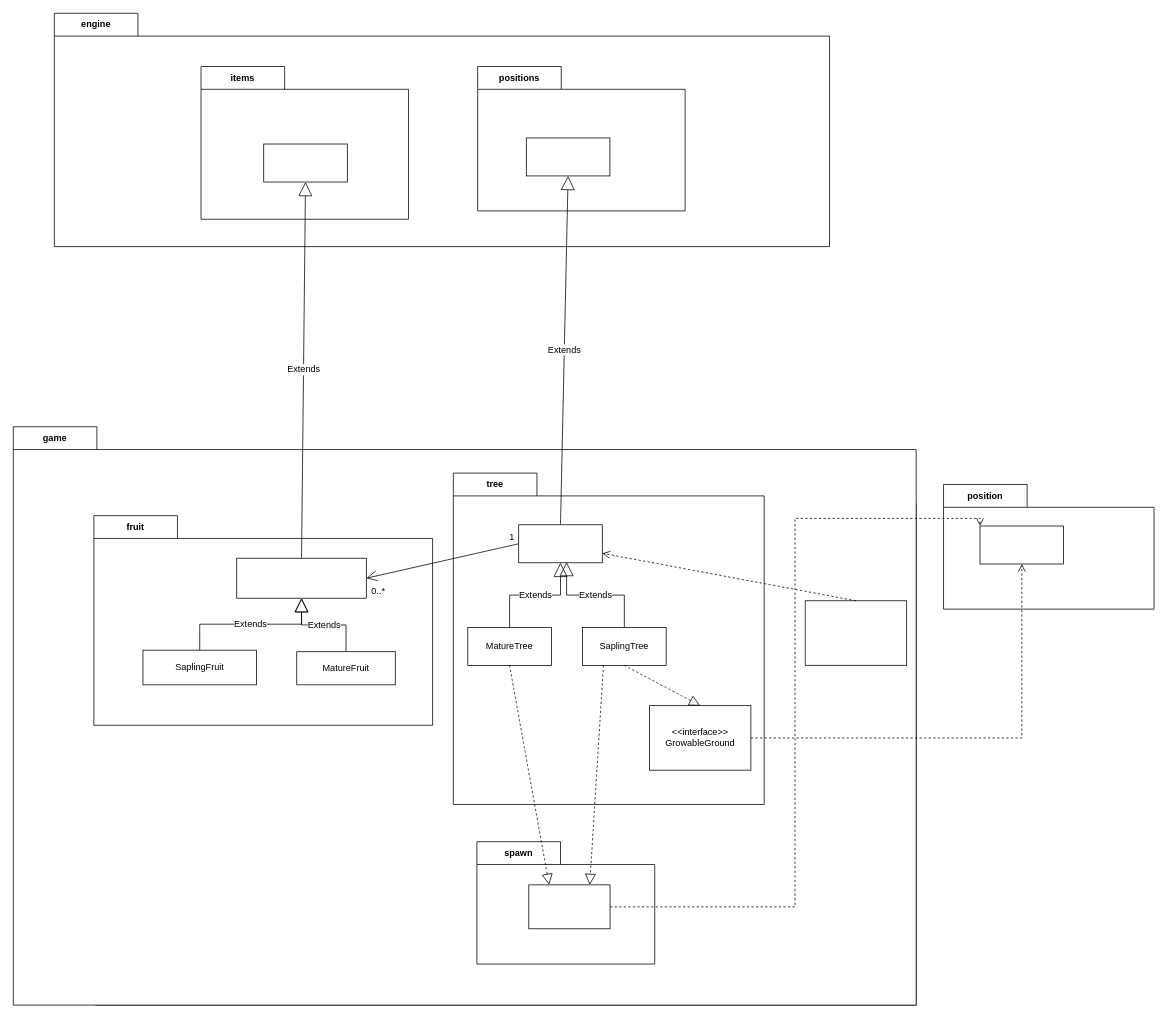
Image size: 1167x1018. Some labels were removed from this diagram. Here are the shapes that lost their labels. From the top down, the centre of each, then its label:
At [305,162]: "<<abstract>> Item".
At [568,156]: "<<abstract>> Ground".
At [560,543]: "<<abstract>> Inheritree".
At [1021,544]: "Location".
At [301,577]: "<<abstract>> Consumable".
At [855,632]: "Application".
At [569,906]: "<<Interface>> SpawnItem".
